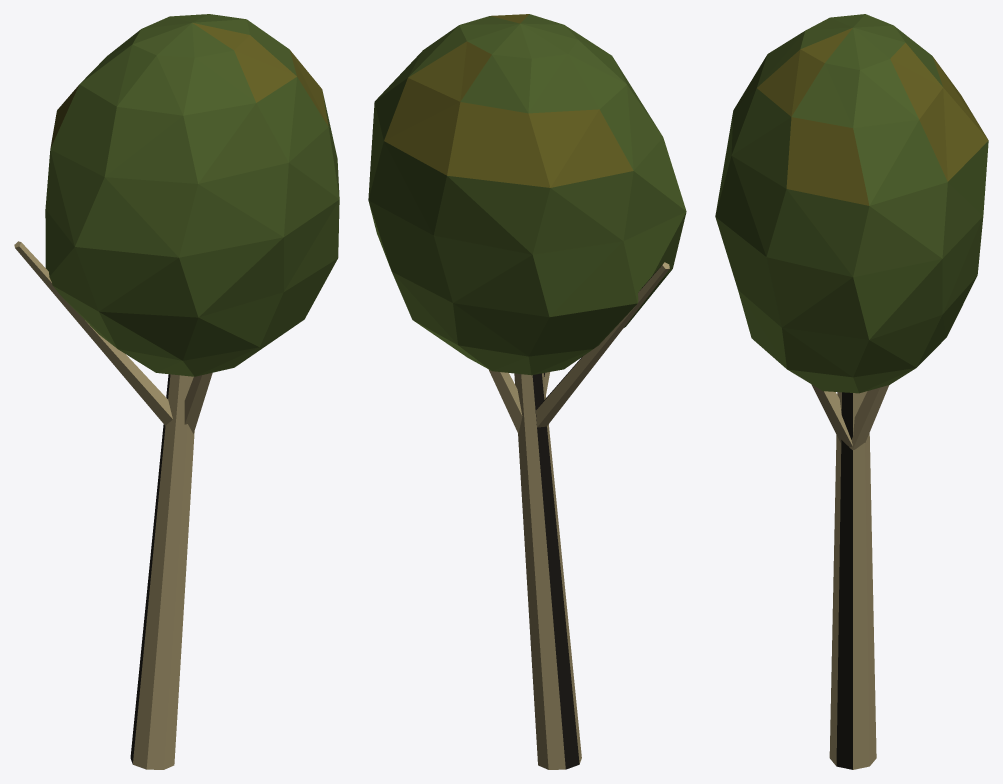
Rendered from Tree_Birch_04.fbx.
3 views of the same model, side by side, from view 1: azimuth 30°, elevation 25°; view 2: azimuth 150°, elevation 25°; view 3: azimuth 270°, elevation 25° (orthographic). The views are drawn at different scales.
Parts seen in each view (by area): view 1: Tree_Birch_04_Foliage, Tree_Birch_04_Trunk; view 2: Tree_Birch_04_Foliage, Tree_Birch_04_Trunk; view 3: Tree_Birch_04_Foliage, Tree_Birch_04_Trunk.
Boxes of the visible parts, x1,y1,x2,y2 form: Tree_Birch_04_Foliage: (45, 14, 339, 376); Tree_Birch_04_Trunk: (14, 241, 212, 769); Tree_Birch_04_Foliage: (368, 14, 686, 375); Tree_Birch_04_Trunk: (488, 262, 669, 769); Tree_Birch_04_Foliage: (715, 14, 988, 393); Tree_Birch_04_Trunk: (811, 384, 889, 769).
Size of the model in its own units: 1.94 by 4.4 by 1.45.
1 material, 1 textured.
